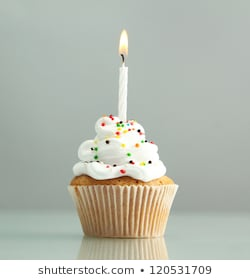Fire: (115, 27, 130, 62)
